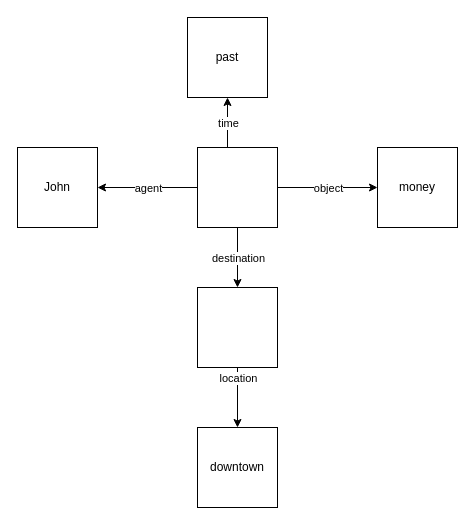
The diagram is 475 pixels wide and 525 high, and some of its shapes have lost their labels. Here are the shapes that lost their labels. From the top down, the box of each, then its label:
(196, 146, 278, 228): deposit
(196, 286, 278, 368): bank
